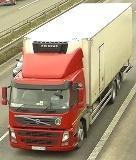truck: (1, 3, 132, 152)
